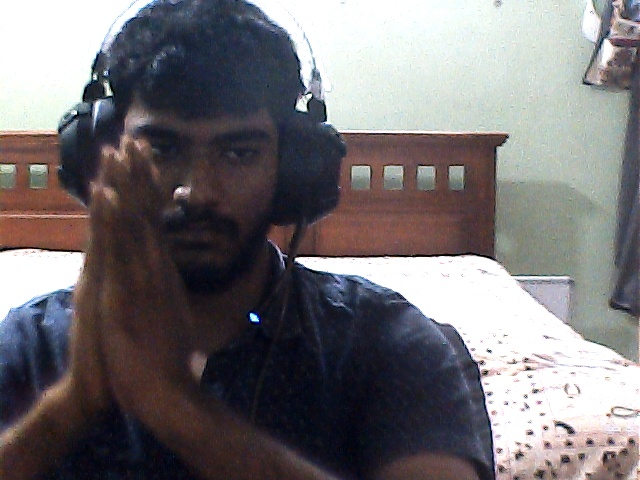Sign: (62, 134, 191, 453)
